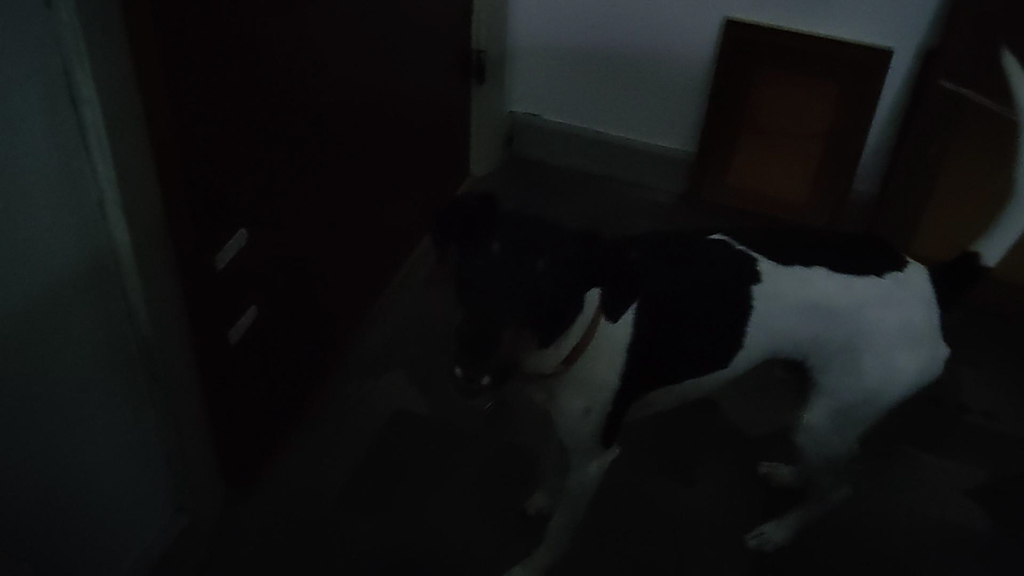Dog: (396, 30, 1024, 576)
